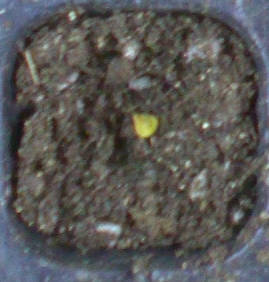pepper seed: (52, 42, 211, 181)
